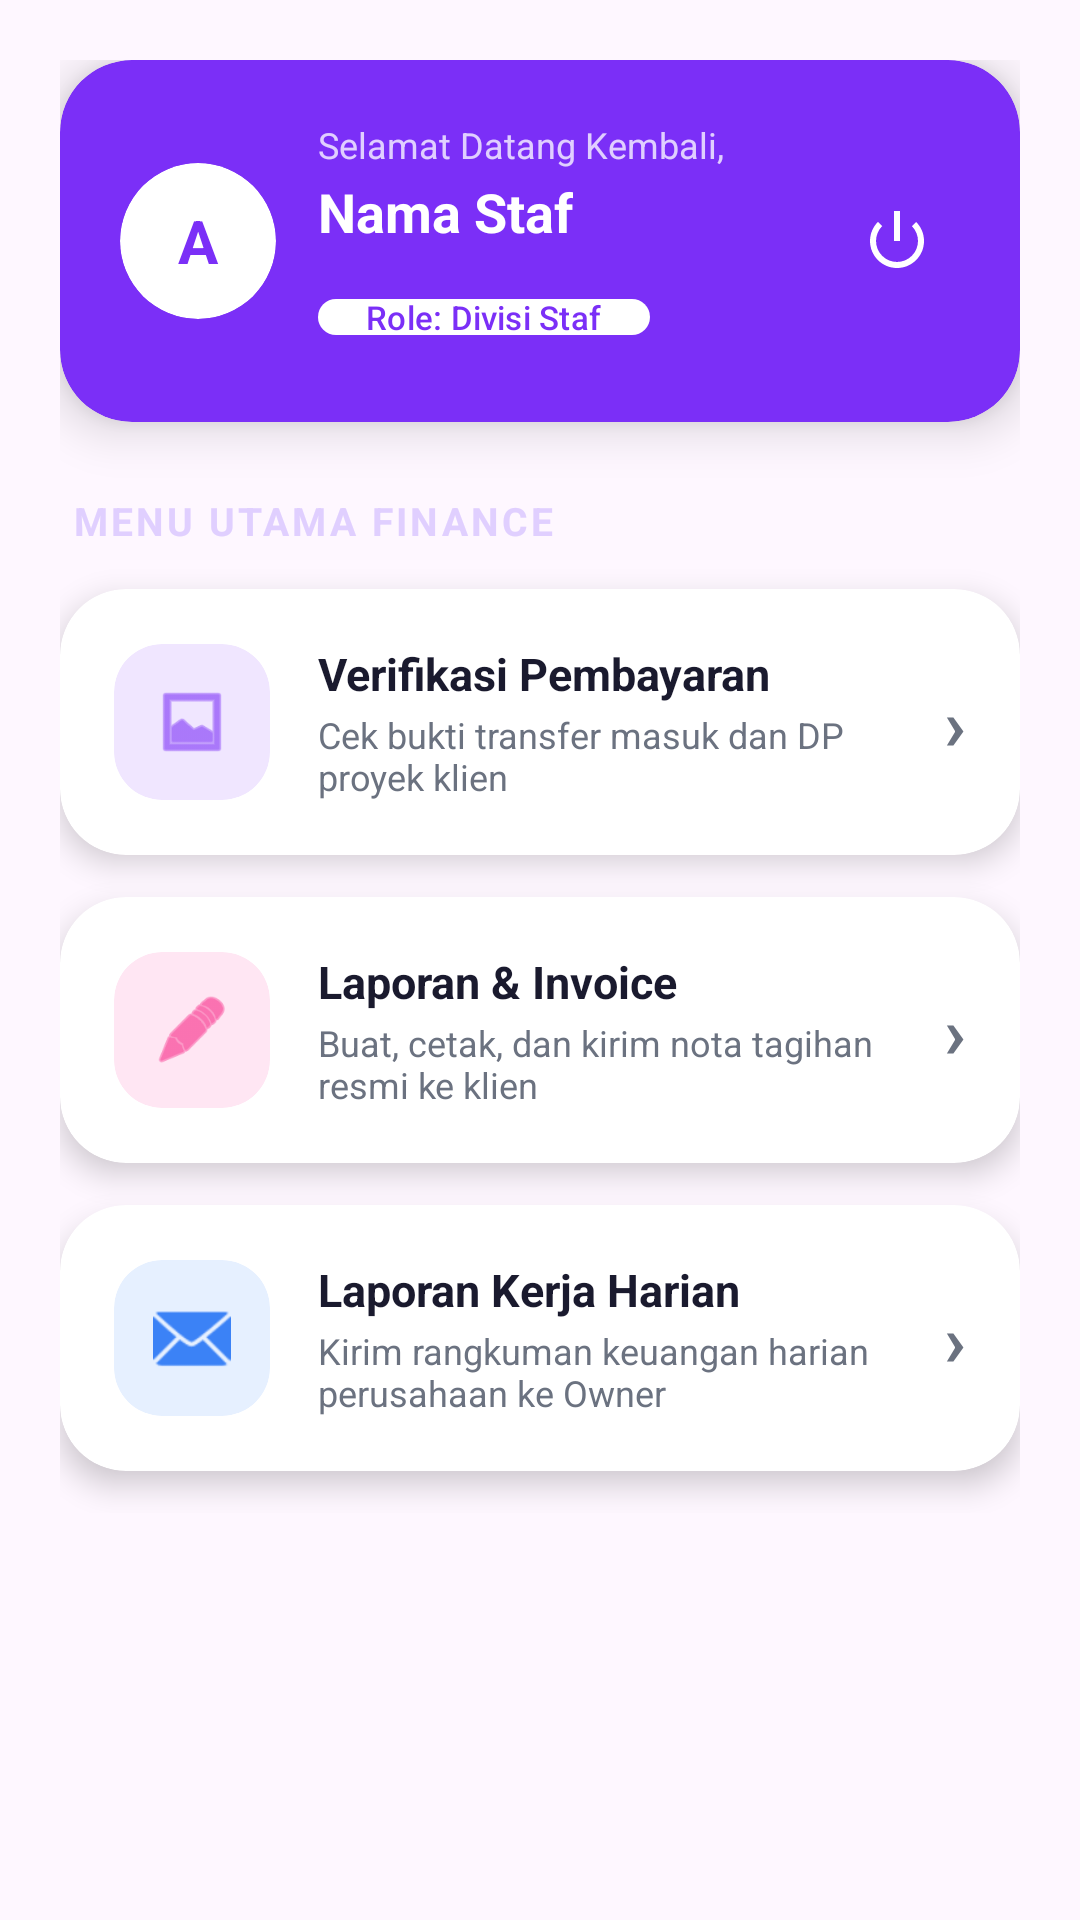

Screen size 1080px x 1920px. Icon name, then its box in pixels as (x1, y1, x2, y2):
edit: (159, 997, 225, 1063)
email: (153, 1311, 231, 1366)
gallery: (163, 693, 221, 751)
